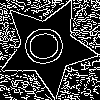O: (22, 22, 75, 69)
